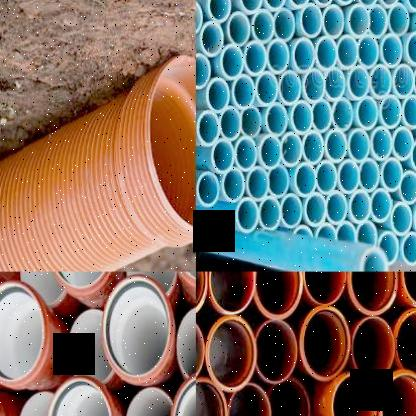pipe: (144, 56, 196, 233), (102, 274, 172, 377), (0, 280, 44, 381), (206, 315, 256, 392), (301, 307, 350, 380), (68, 310, 114, 383), (351, 317, 395, 381), (46, 375, 112, 416), (254, 321, 297, 383), (253, 272, 303, 319), (348, 272, 398, 314), (209, 272, 255, 314), (332, 373, 376, 416), (378, 370, 416, 416), (268, 376, 310, 416), (20, 272, 65, 306), (227, 382, 271, 416), (125, 385, 172, 416), (395, 309, 416, 378), (176, 306, 196, 378), (305, 272, 346, 305), (195, 376, 227, 416), (47, 272, 113, 290), (125, 272, 177, 294), (18, 391, 55, 416), (219, 44, 244, 79), (206, 77, 230, 113), (314, 35, 338, 71), (236, 197, 259, 234), (290, 100, 314, 135), (196, 171, 219, 207), (247, 166, 270, 202), (211, 138, 234, 174), (235, 136, 258, 172), (232, 74, 255, 110), (278, 70, 301, 106), (292, 37, 315, 73), (200, 21, 223, 57), (197, 110, 219, 147), (357, 33, 379, 70), (304, 192, 327, 227), (265, 102, 288, 137), (244, 41, 267, 76), (281, 193, 303, 229), (222, 167, 244, 203), (338, 158, 360, 194), (259, 135, 281, 171), (392, 126, 414, 162), (380, 94, 402, 130), (256, 71, 278, 107), (304, 68, 326, 104), (322, 4, 345, 38), (348, 4, 371, 38), (326, 190, 348, 225), (370, 188, 392, 223), (381, 157, 403, 192), (302, 130, 324, 165), (370, 64, 392, 99), (393, 63, 415, 98), (267, 39, 289, 74), (228, 12, 250, 47), (252, 9, 274, 44), (300, 3, 322, 38), (281, 132, 302, 168), (220, 105, 241, 141), (258, 196, 280, 230), (294, 163, 316, 197), (316, 160, 338, 194), (325, 129, 347, 163), (356, 96, 378, 130), (324, 67, 346, 101), (273, 7, 295, 41), (388, 2, 410, 36), (359, 157, 380, 192), (349, 128, 370, 163), (349, 65, 370, 100), (382, 33, 403, 68), (350, 190, 372, 223), (240, 105, 262, 138), (338, 34, 358, 70), (268, 164, 289, 198), (392, 201, 412, 236), (312, 98, 332, 133), (359, 247, 387, 272), (371, 127, 392, 160), (332, 98, 353, 131), (368, 4, 388, 38), (378, 231, 398, 265), (196, 318, 205, 383), (356, 220, 378, 246), (399, 171, 416, 204), (207, 0, 231, 22), (401, 231, 416, 266), (196, 53, 210, 89), (402, 94, 416, 129), (405, 31, 416, 66), (240, 0, 262, 14), (196, 0, 203, 35), (264, 0, 286, 10), (410, 138, 416, 173), (288, 0, 311, 8), (356, 0, 378, 8), (378, 0, 400, 7), (406, 0, 416, 11), (414, 201, 416, 236), (414, 64, 416, 99)
